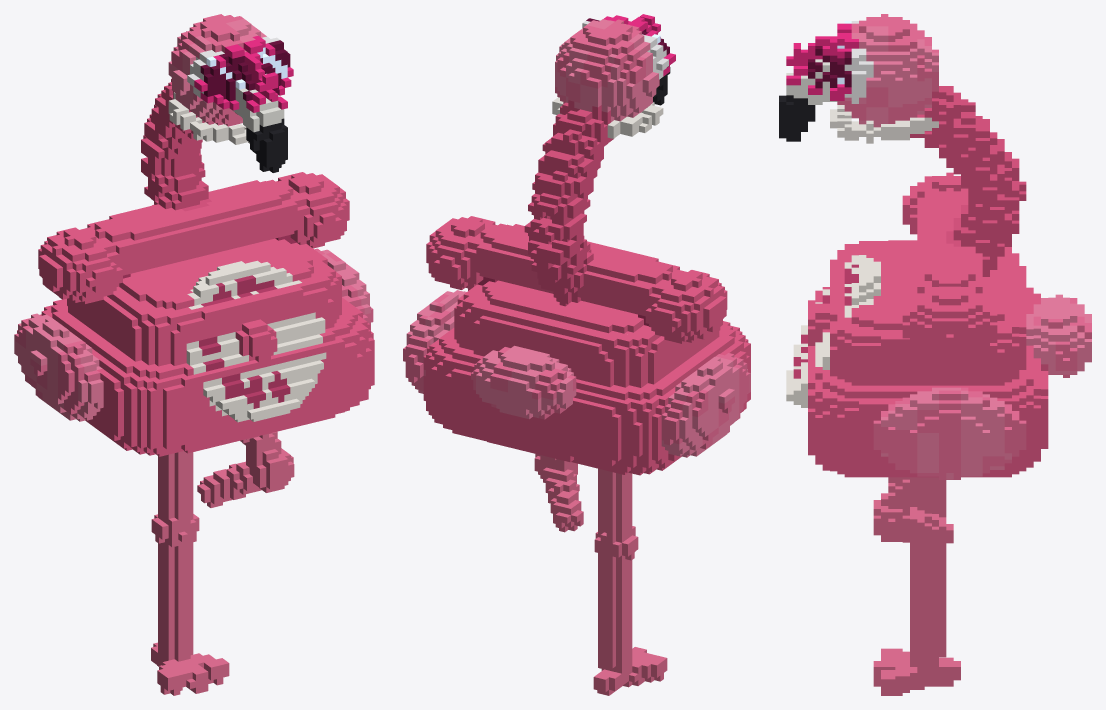
Rendered from telefonino_fenicottero.glb.
3 renders of one model, left to right at view 1: azimuth 30°, elevation 25°; view 2: azimuth 150°, elevation 25°; view 3: azimuth 270°, elevation 25°, orthographic. The views are drawn at different scales.
Visible parts, largest first — view 1: SM_Brainrot_telefonino_fenicottero; view 2: SM_Brainrot_telefonino_fenicottero; view 3: SM_Brainrot_telefonino_fenicottero.
Part boxes in pixels (left/top/right/bottom): SM_Brainrot_telefonino_fenicottero: left=14, top=14, right=374, bottom=695; SM_Brainrot_telefonino_fenicottero: left=403, top=14, right=750, bottom=695; SM_Brainrot_telefonino_fenicottero: left=779, top=14, right=1091, bottom=695.
Bounding box in the file's own units: 3.06 × 6.12 × 2.58.
1 material, 1 textured.
